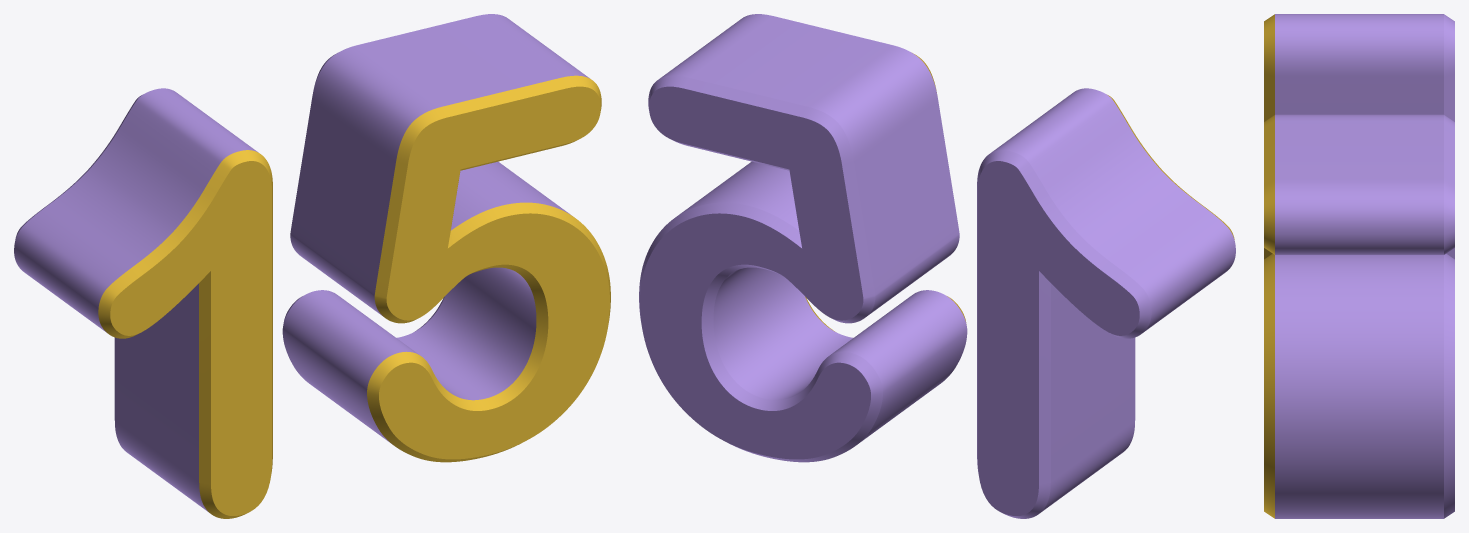
3 renders of one model, left to right at view 1: azimuth 30°, elevation 25°; view 2: azimuth 150°, elevation 25°; view 3: azimuth 270°, elevation 25°, orthographic.
Visible parts, largest first — view 1: 15_3D; view 2: 15_3D; view 3: 15_3D.
Part boxes in pixels (x1=…): 15_3D: x1=14, y1=14, x2=610, y2=518; 15_3D: x1=639, y1=14, x2=1235, y2=518; 15_3D: x1=1264, y1=14, x2=1454, y2=518.
Bounding box in the file's own units: 241 × 164 × 77.6.
